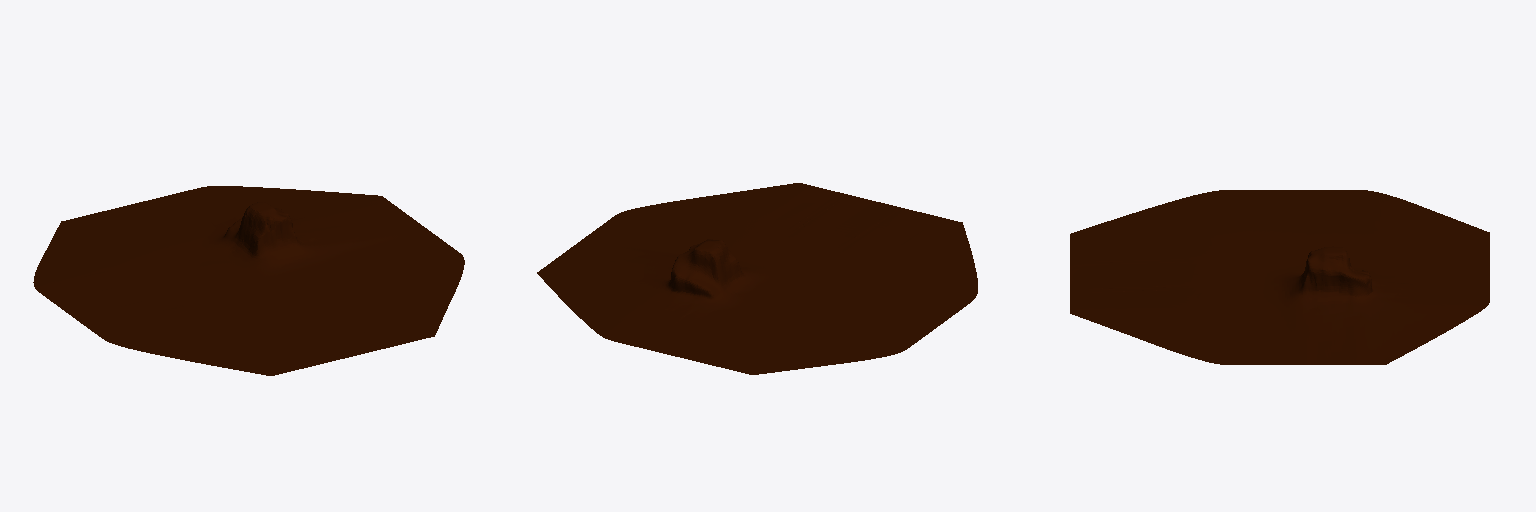
The model's file is hill.obj.
3 views of the same model, side by side, from view 1: azimuth 30°, elevation 25°; view 2: azimuth 150°, elevation 25°; view 3: azimuth 270°, elevation 25° (orthographic).
Parts seen in each view (by area): view 1: Plane; view 2: Plane; view 3: Plane.
Part boxes in pixels (x1,y1,x2,y2): Plane: (33, 186, 464, 375); Plane: (537, 183, 977, 374); Plane: (1070, 190, 1489, 364).
Bounding box in the file's own units: 436 × 51.26 × 444.